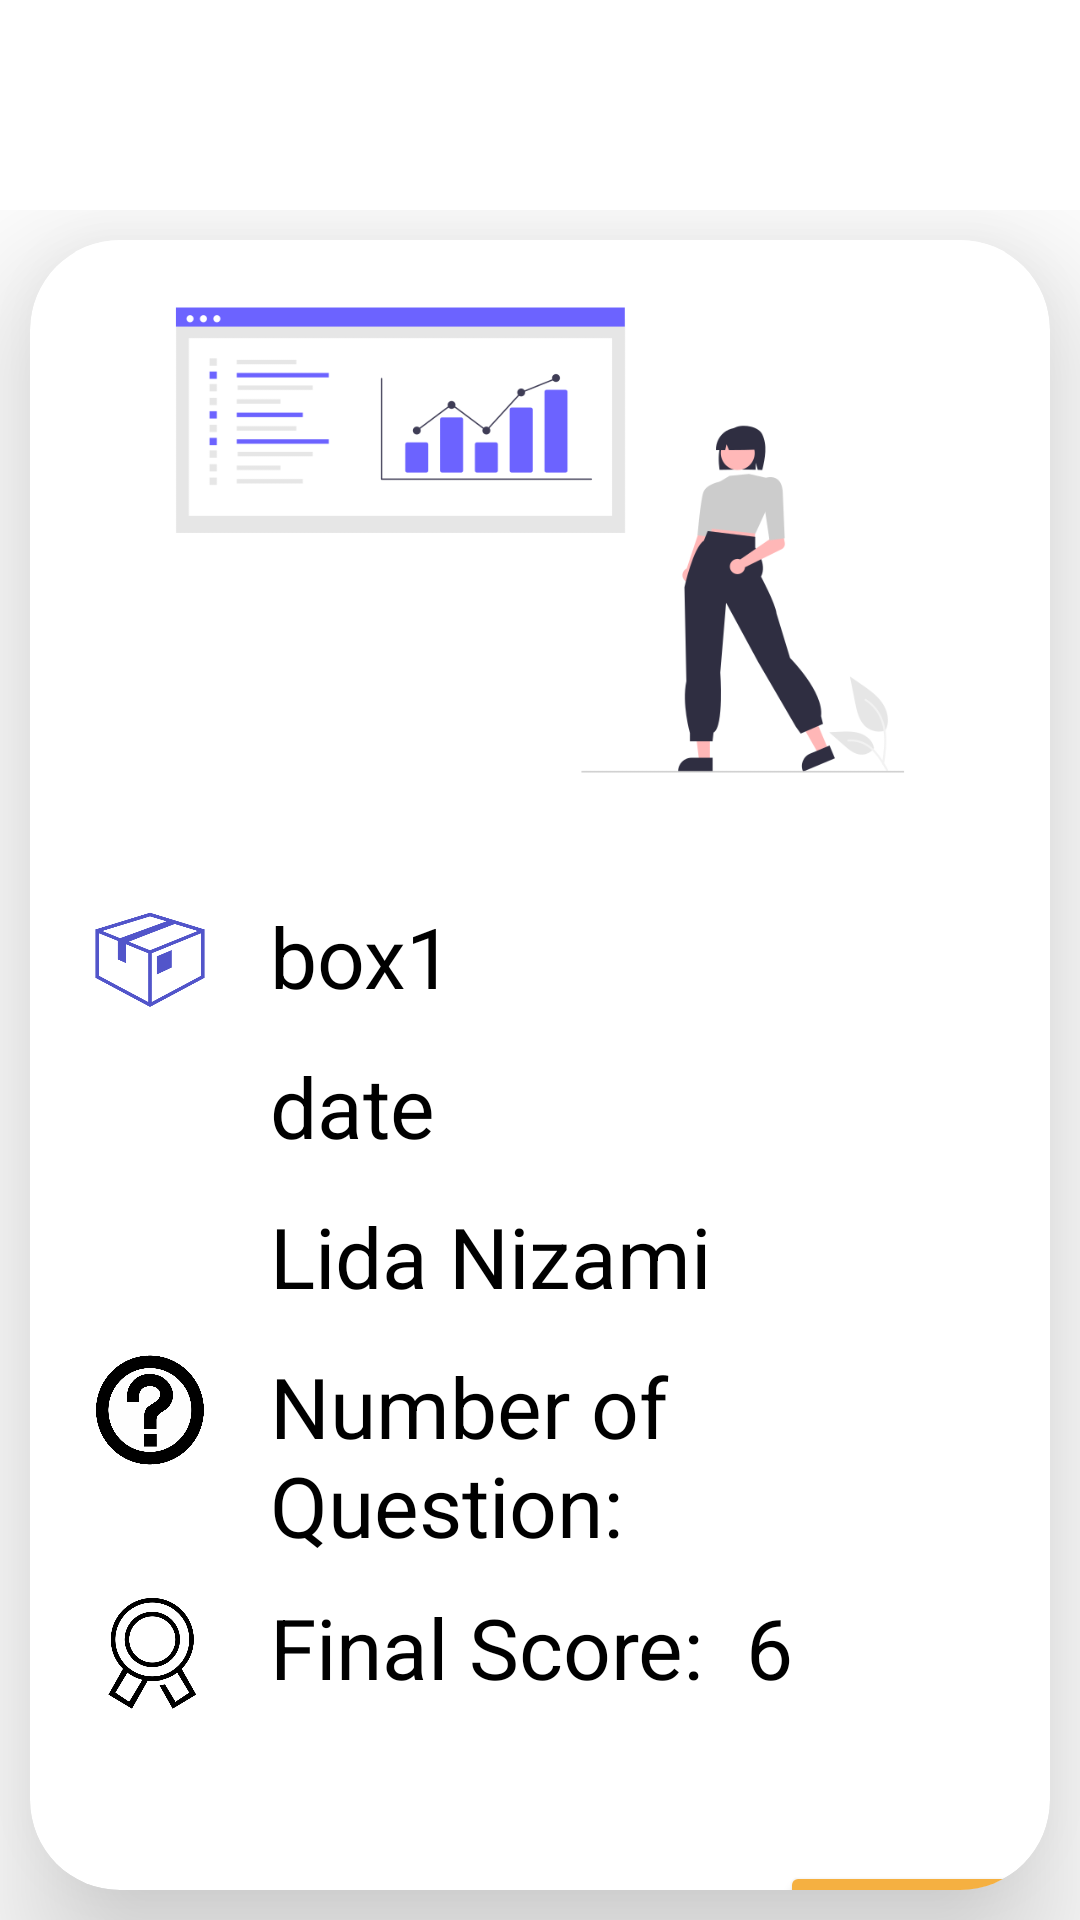

Where icons sit on this 1080 × 1920 app screen, as (x1, y1, x2, y2):
questionmark: (96, 1355, 204, 1465)
